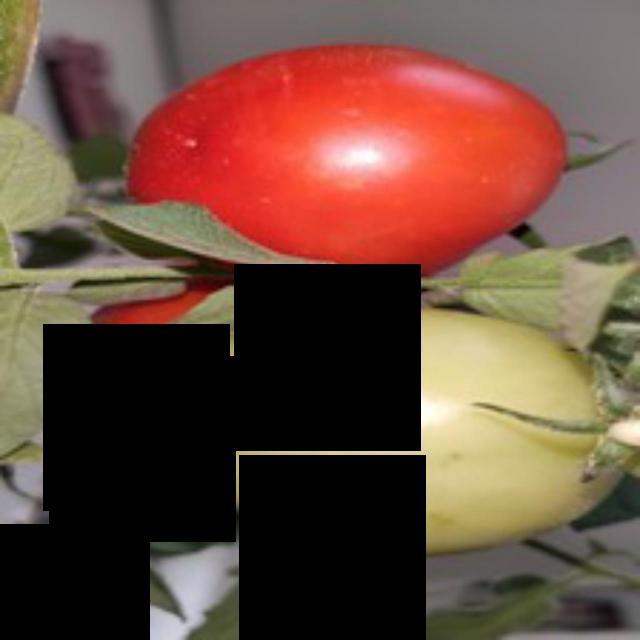tomato: (99, 36, 603, 305)
